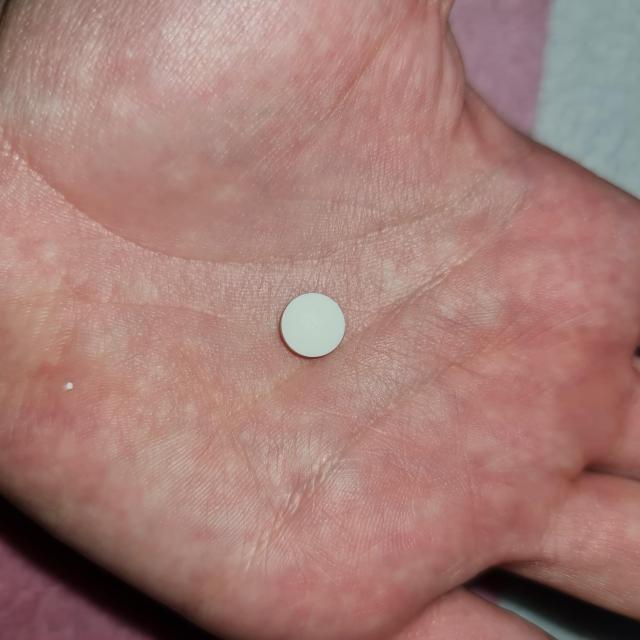pill: (276, 289, 349, 362)
